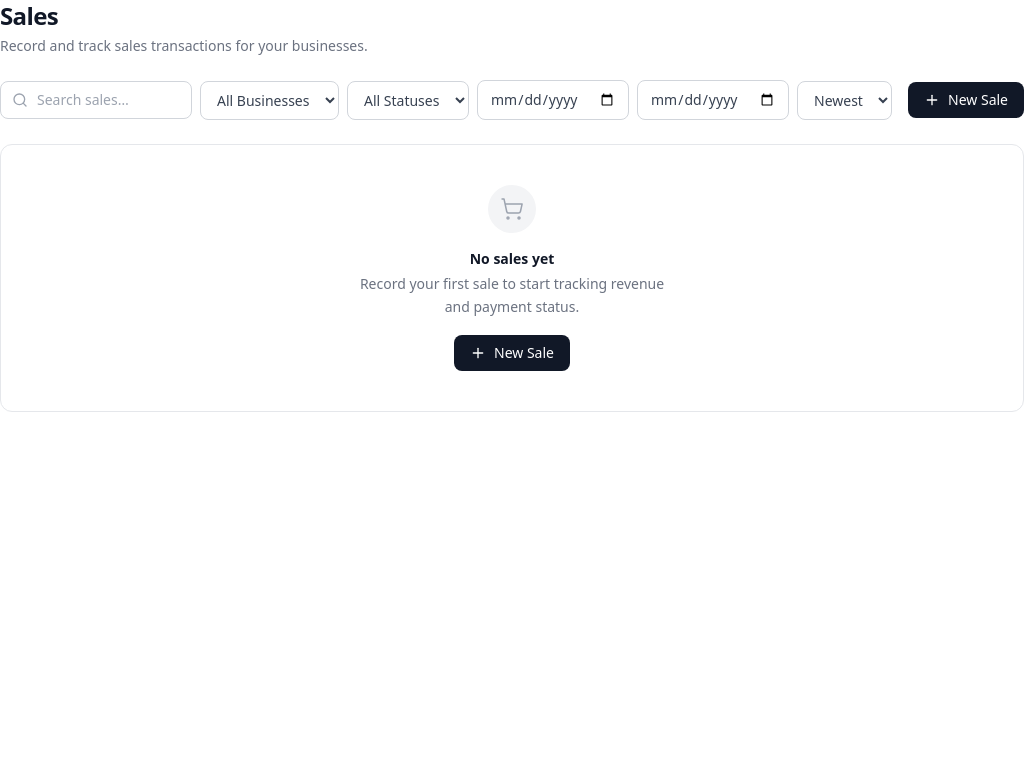
Test: SalesPage — create › shows service error on create failure
The width and height of the screenshot is (1024, 768).
Expected: the heading "No sales yet" is shown, [470, 249, 554, 269]
Click the 1st button "New Sale" at [966, 100], box [908, 82, 1023, 118]
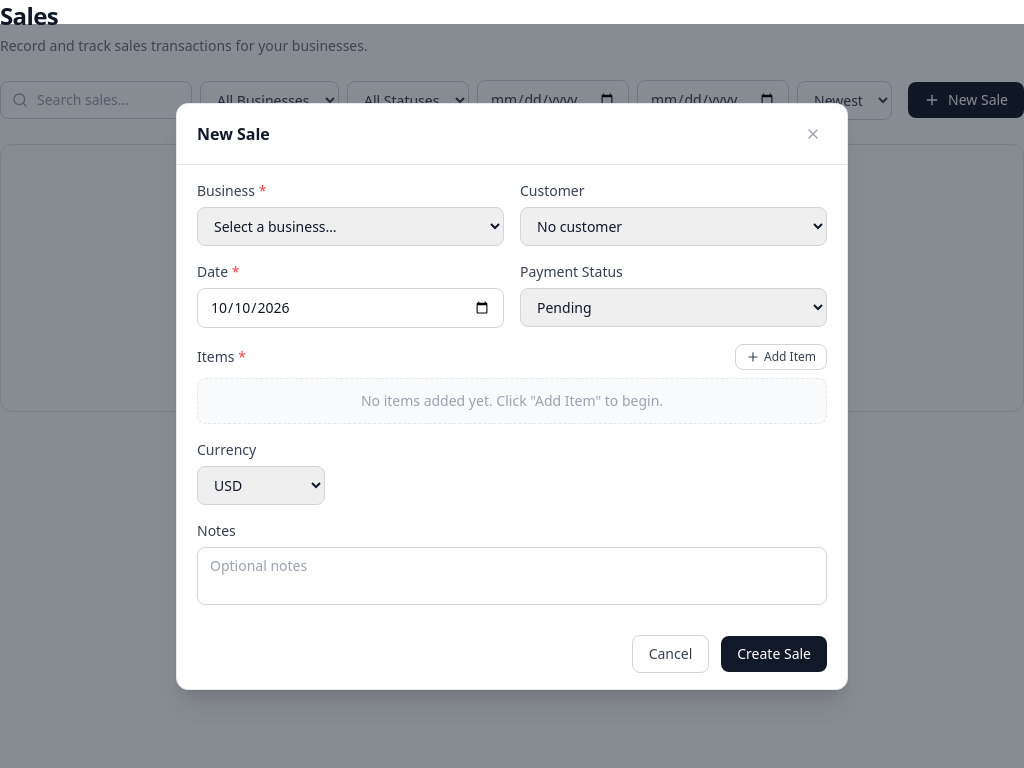
Expected: the dialog is shown, [176, 102, 848, 690]
Select "Test Shop" in the dropdown labelled "Business *" at [350, 226], box [197, 206, 504, 246]
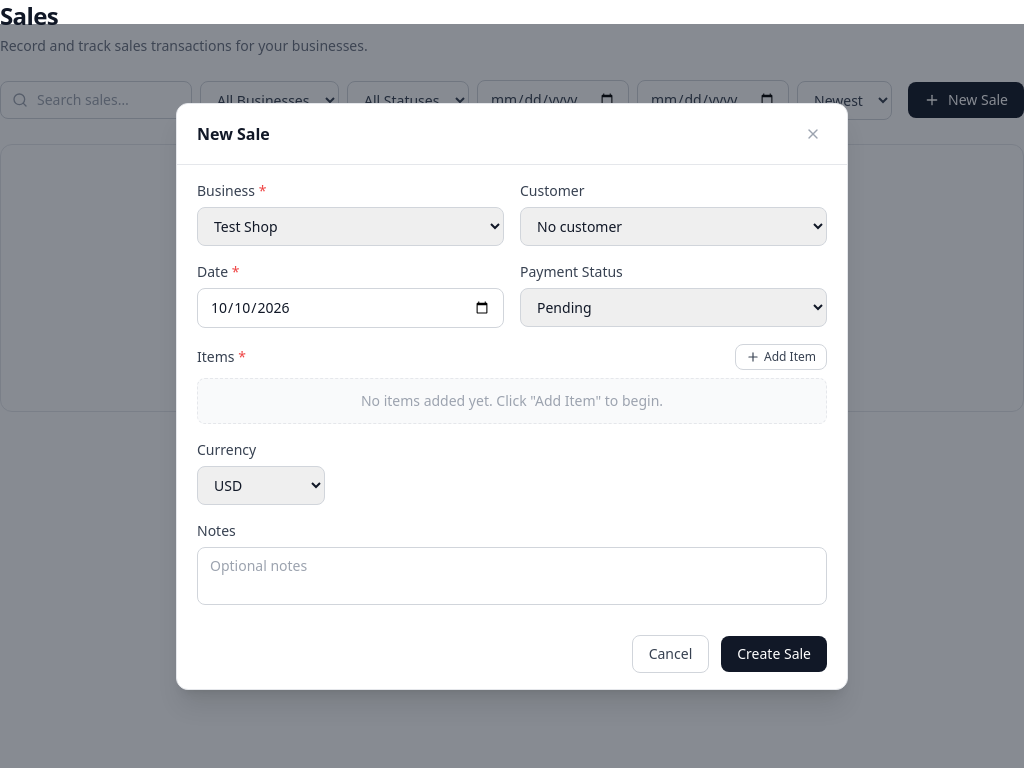
Click the button "Add Item" at [781, 356], box [735, 344, 827, 370]
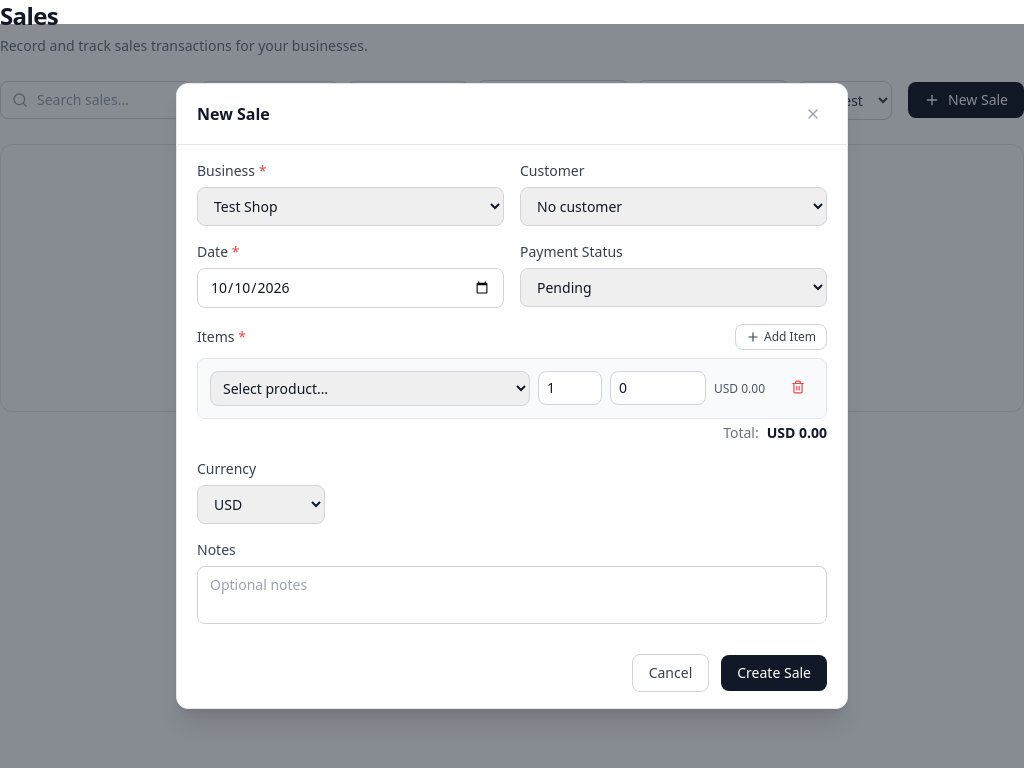
Select "Coffee Beans" in the dropdown named "product" at [370, 388], box [210, 371, 530, 406]
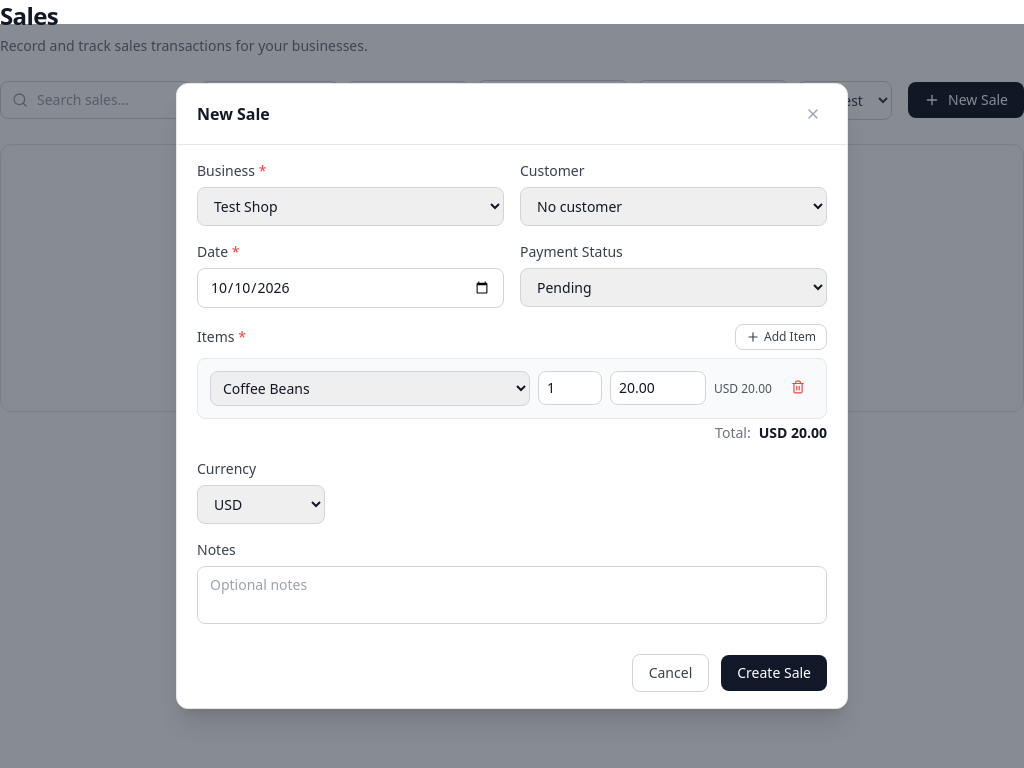
Click the button "Create Sale" at [774, 673], box [721, 655, 827, 691]
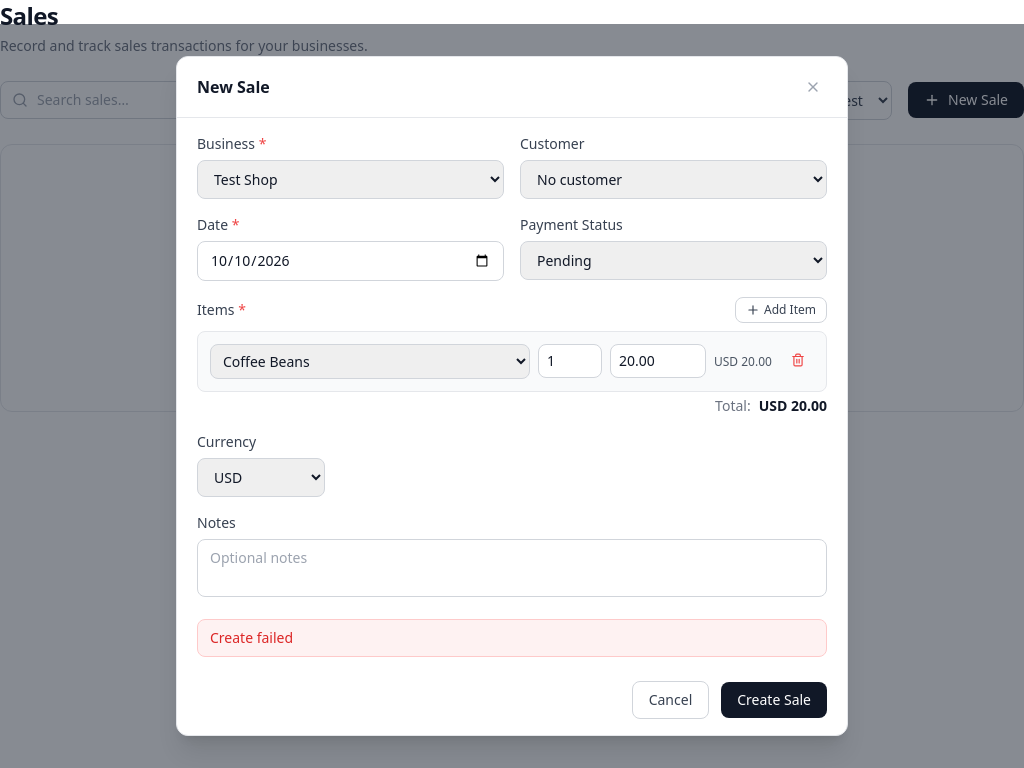
Expected: the text "Create failed" is shown, [197, 619, 827, 657]
